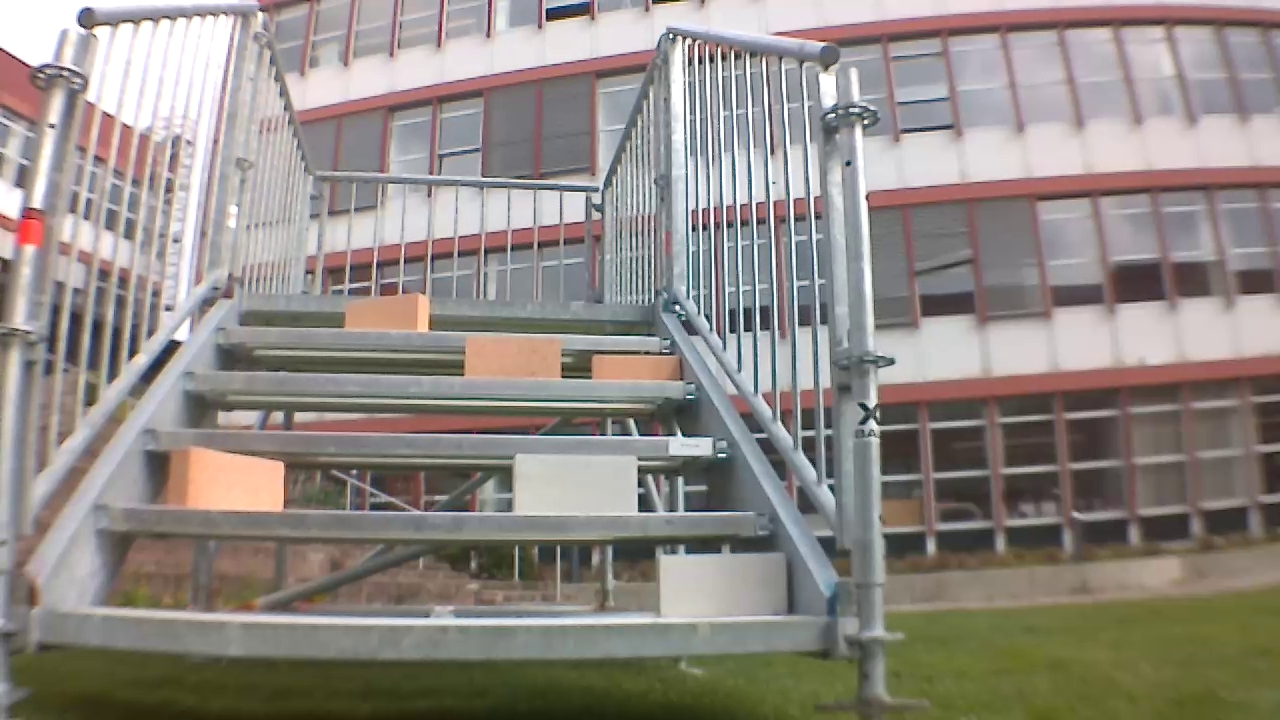brick: (658, 553, 788, 616), (511, 454, 637, 515), (168, 447, 284, 510), (465, 338, 558, 376), (343, 293, 428, 331), (593, 355, 683, 382)
edge: (37, 609, 829, 656), (95, 505, 775, 536), (142, 428, 729, 458), (181, 370, 699, 398), (216, 325, 673, 353), (245, 292, 656, 322)
stairs: (0, 0, 906, 719)
steps: (32, 287, 834, 664)
